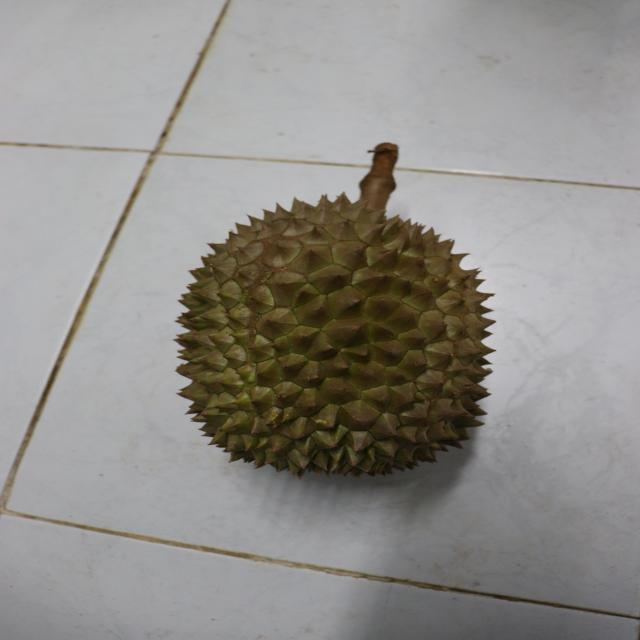mature: (159, 186, 495, 482)
